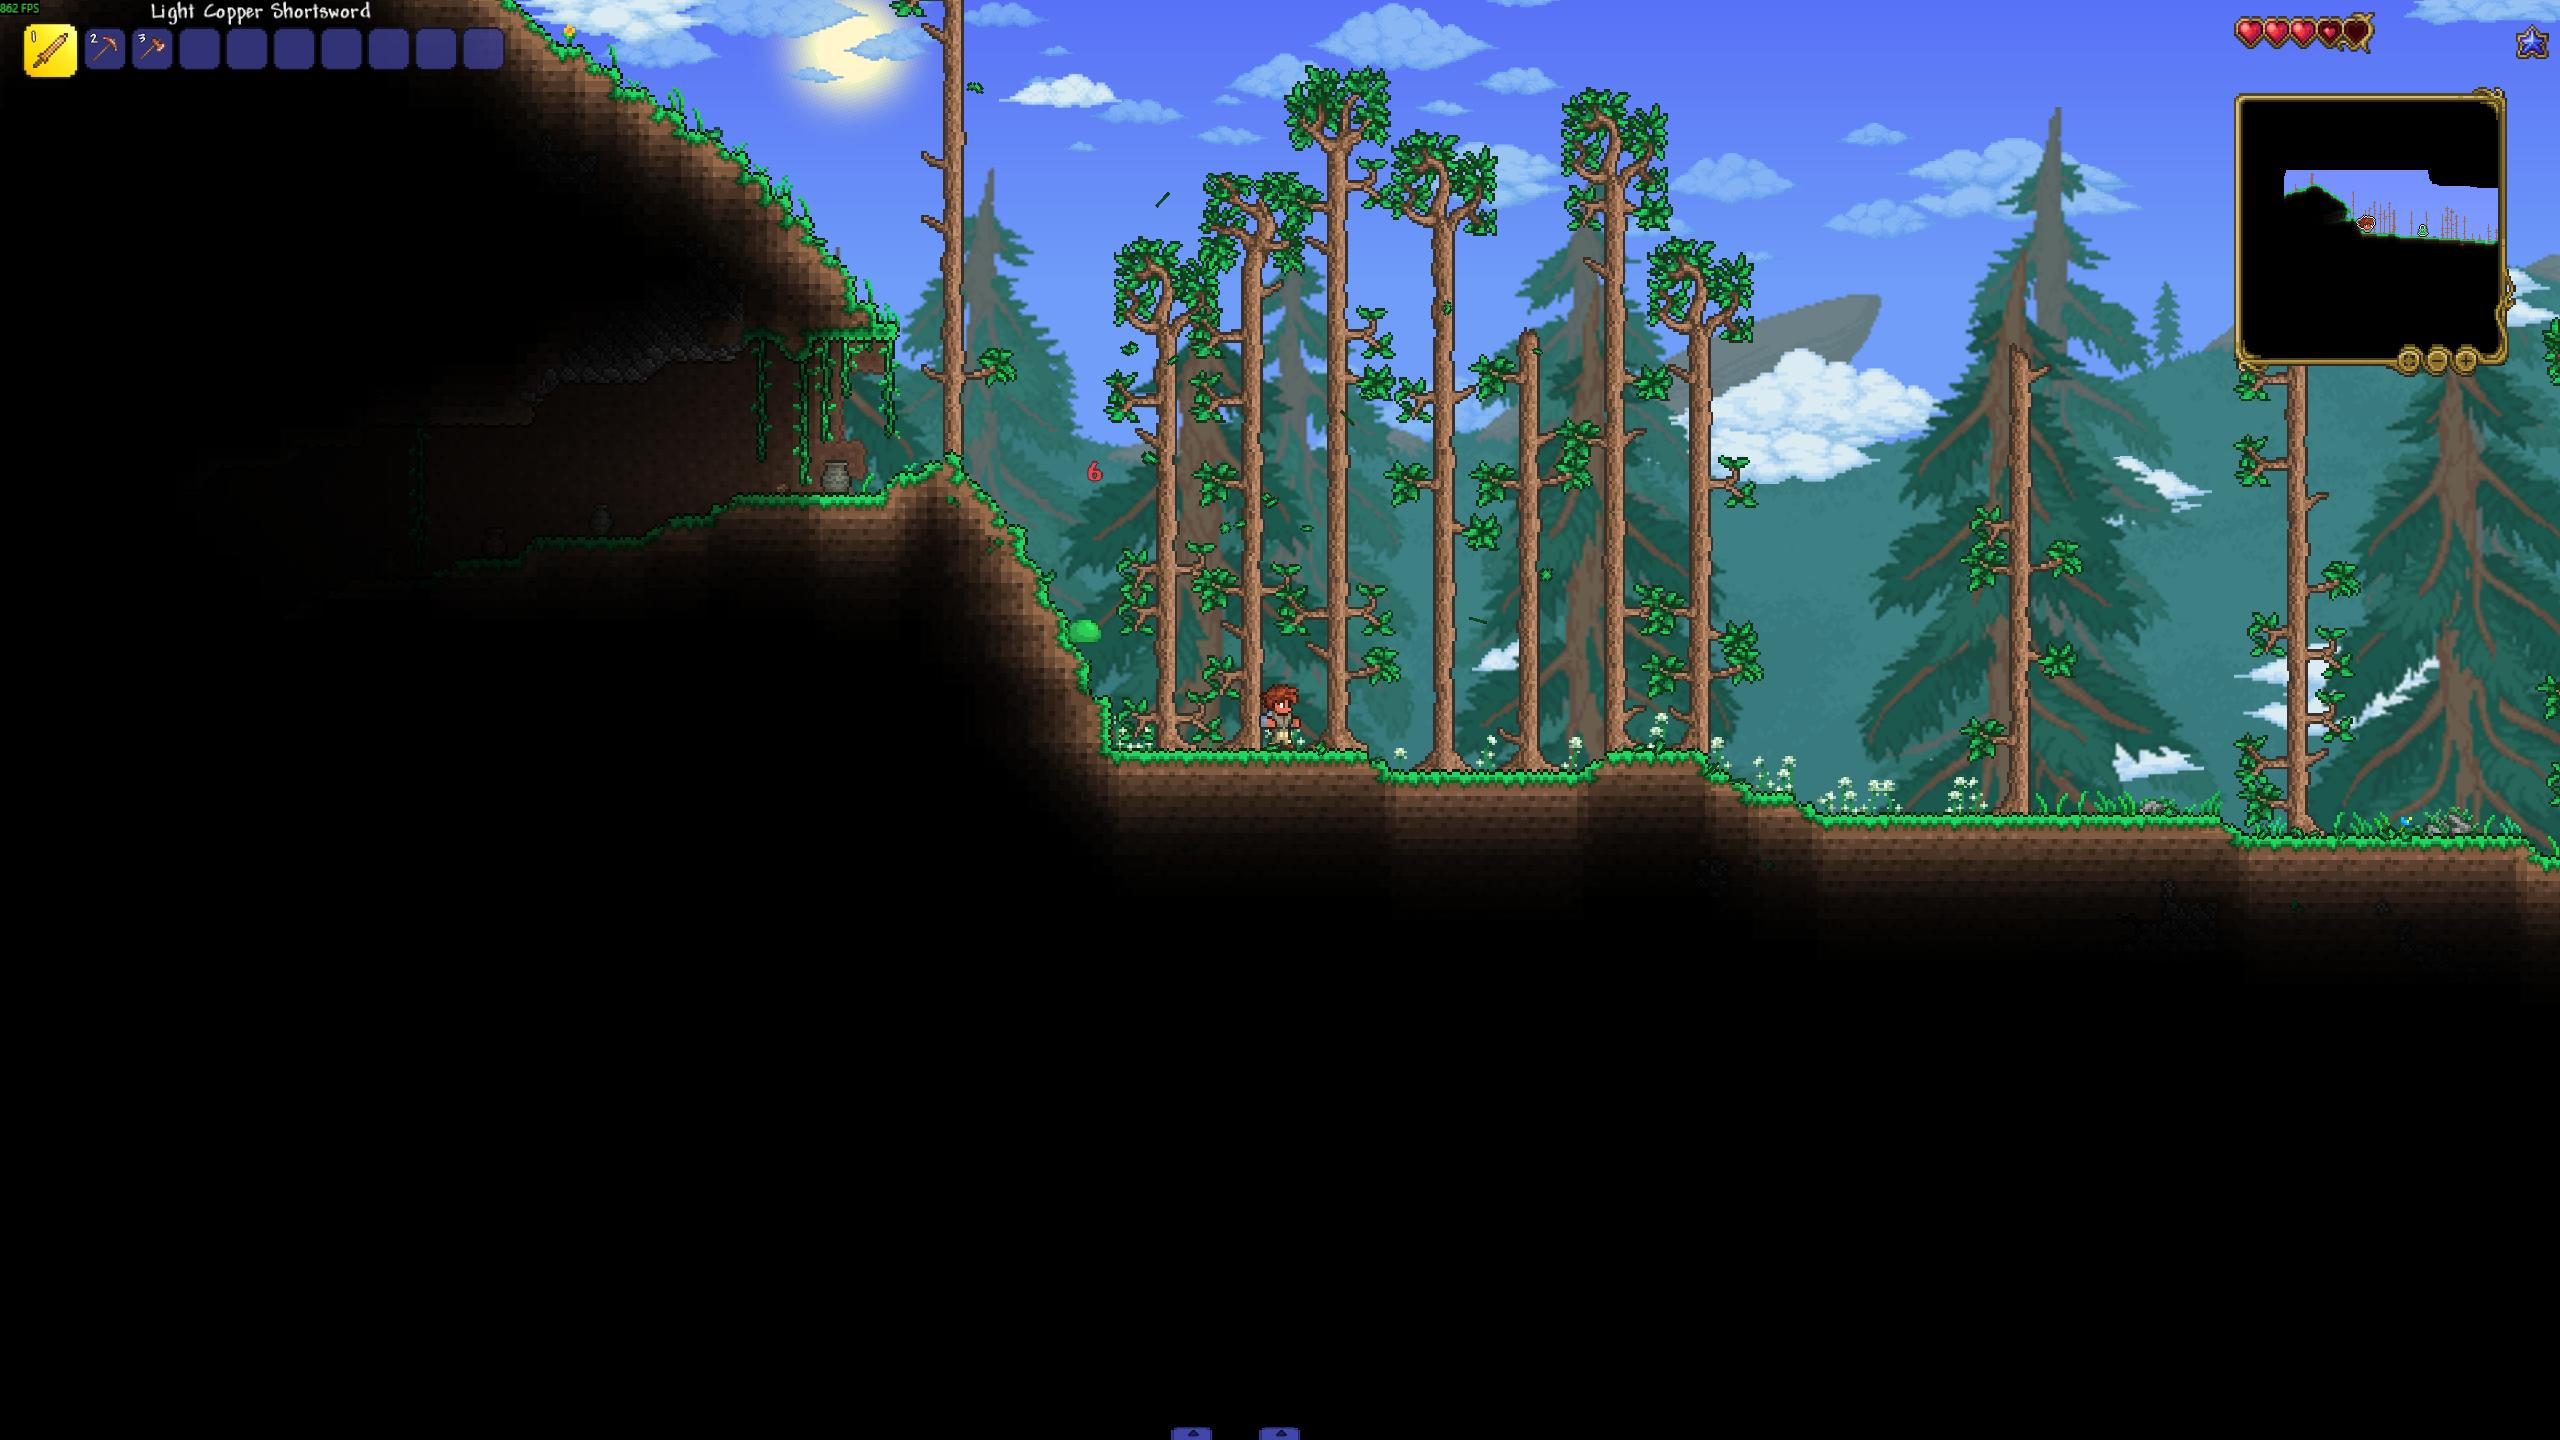Green Slime: (1064, 615, 1104, 644)
